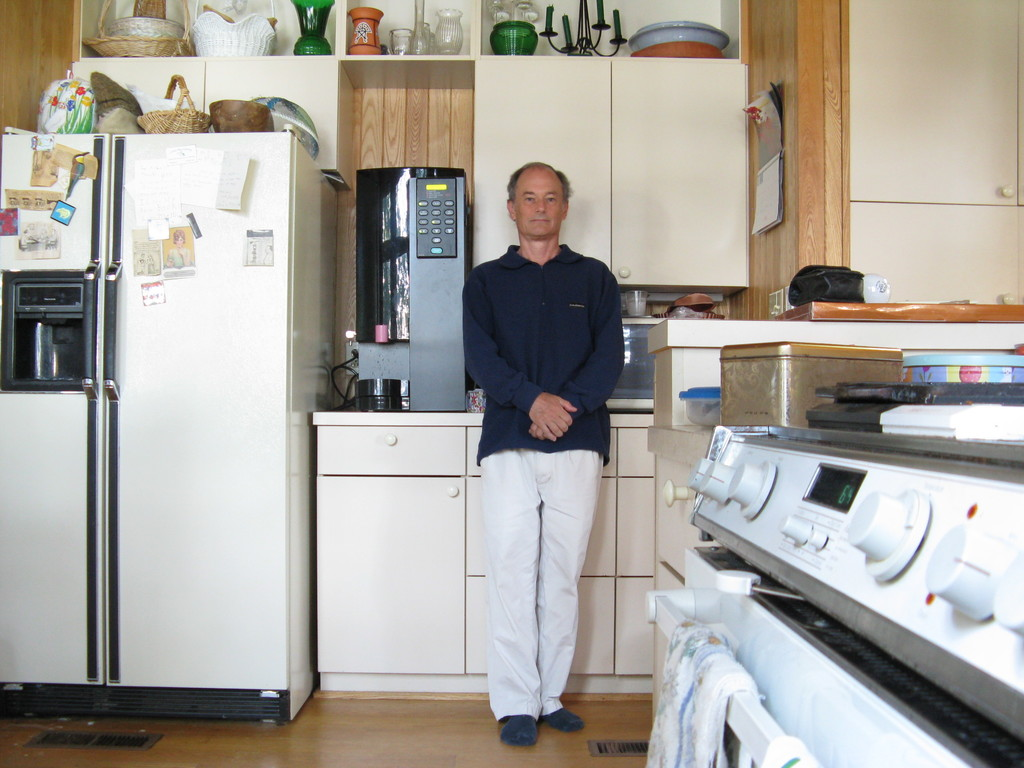cabinet door: (857, 12, 1020, 203), (318, 474, 466, 674), (614, 68, 746, 285), (483, 66, 606, 258), (854, 207, 1024, 304), (214, 68, 335, 124), (317, 429, 459, 475), (90, 59, 200, 110), (653, 461, 687, 553), (623, 589, 654, 657), (622, 484, 649, 562)
handle: (98, 259, 124, 393), (78, 263, 100, 394), (658, 474, 686, 508), (990, 282, 1020, 311), (994, 178, 1016, 208), (440, 477, 463, 503), (616, 258, 637, 282), (382, 430, 402, 453)
refrigerator door: (98, 144, 278, 677), (2, 135, 98, 687)
